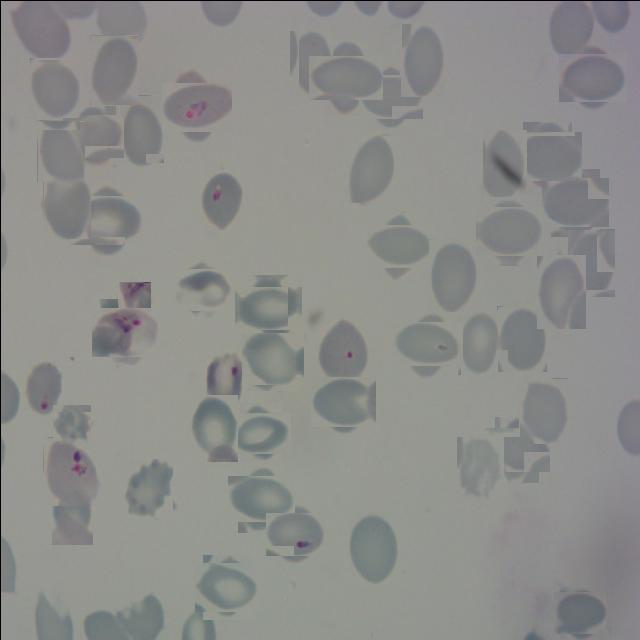leukocyte: (75, 188, 137, 250), (427, 238, 476, 312), (536, 254, 585, 328), (347, 512, 398, 583), (315, 48, 375, 108), (517, 126, 576, 185), (546, 172, 604, 232), (564, 48, 622, 106), (198, 558, 256, 616), (314, 372, 372, 430), (243, 330, 301, 388), (480, 202, 538, 260), (89, 34, 137, 104), (346, 136, 396, 203), (399, 22, 444, 96), (398, 315, 456, 372), (496, 305, 546, 371), (566, 228, 614, 296), (518, 377, 567, 443), (189, 394, 237, 461), (232, 469, 288, 526), (240, 280, 296, 336), (42, 173, 90, 238), (118, 94, 163, 162), (371, 218, 426, 273), (362, 70, 418, 124), (456, 436, 503, 500), (29, 58, 79, 118), (482, 130, 526, 198), (36, 120, 84, 182), (489, 422, 544, 476), (288, 29, 332, 95), (123, 458, 172, 517), (456, 308, 499, 374), (67, 109, 119, 162), (175, 263, 227, 315), (52, 482, 94, 544), (235, 407, 286, 458), (556, 588, 603, 636), (116, 282, 150, 334), (51, 403, 90, 443)
red blood cell: (42, 436, 95, 505), (166, 76, 226, 136), (95, 302, 153, 360), (198, 169, 242, 229), (269, 508, 320, 559)
